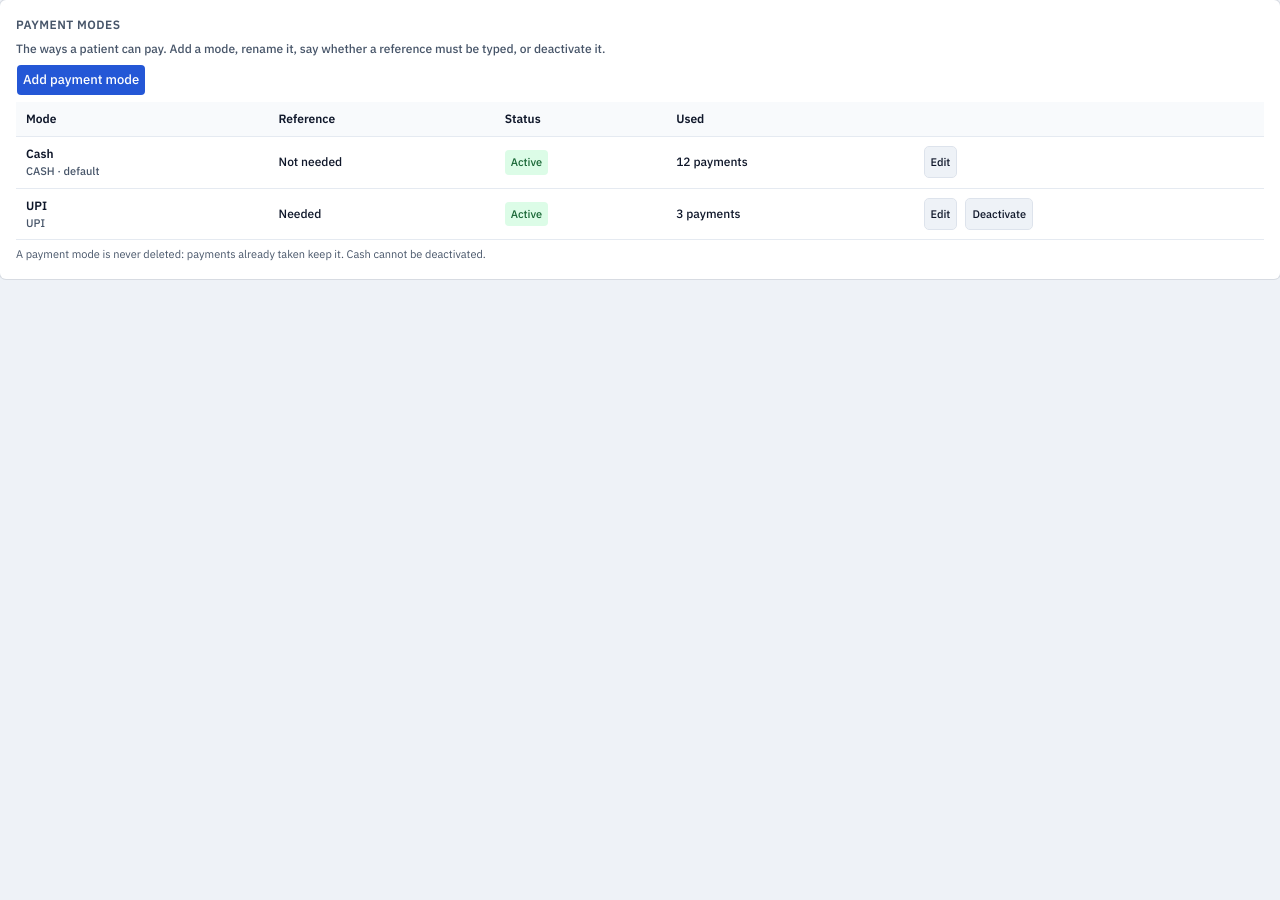
Test: PaymentModesScreen › sends one request for a double click on Save
Step 1. Click the button "Add payment mode" → (81, 80), box [16,64,146,96]
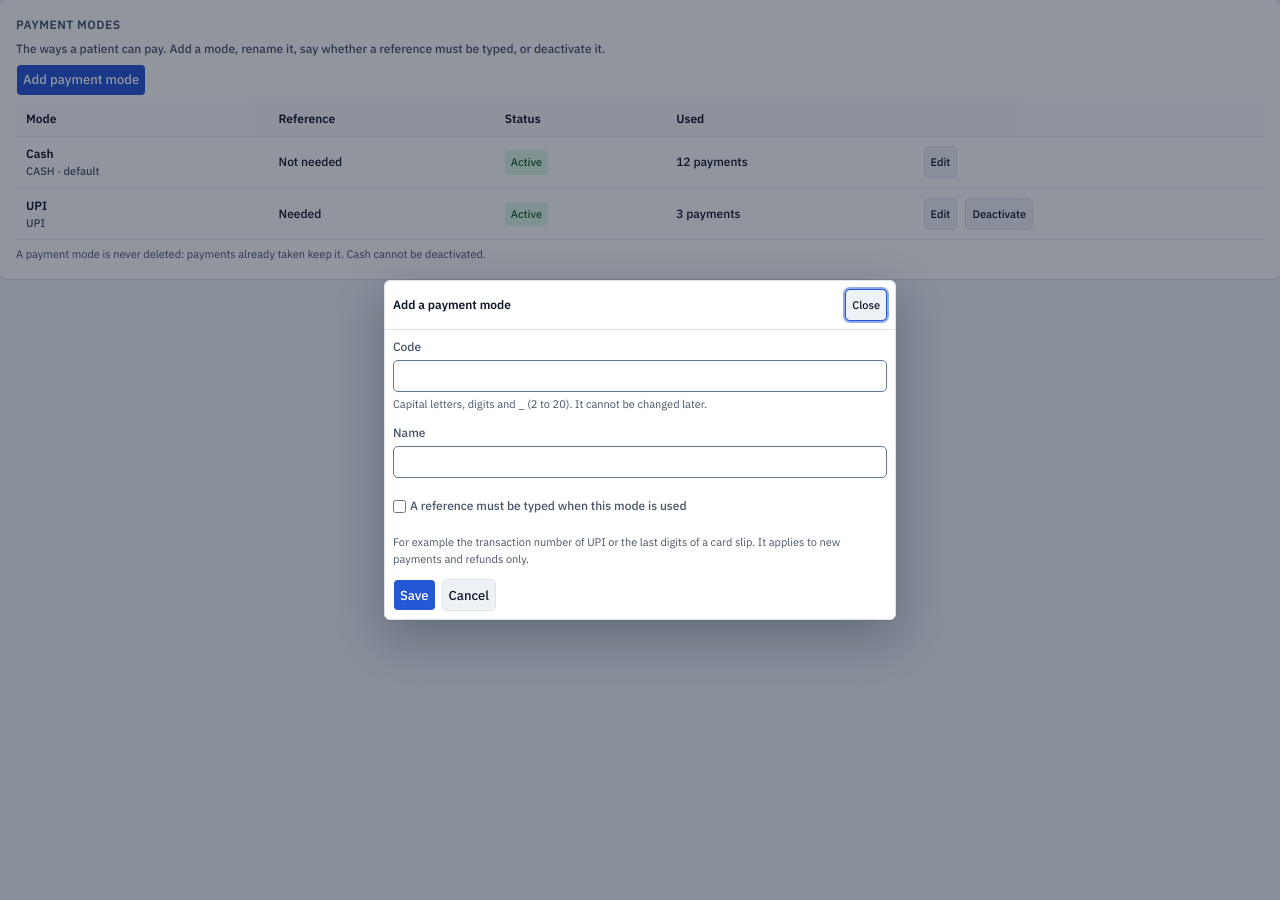
Step 2. Type "WALLET" into the field labelled "Code" → (640, 376), box [393,360,887,392]
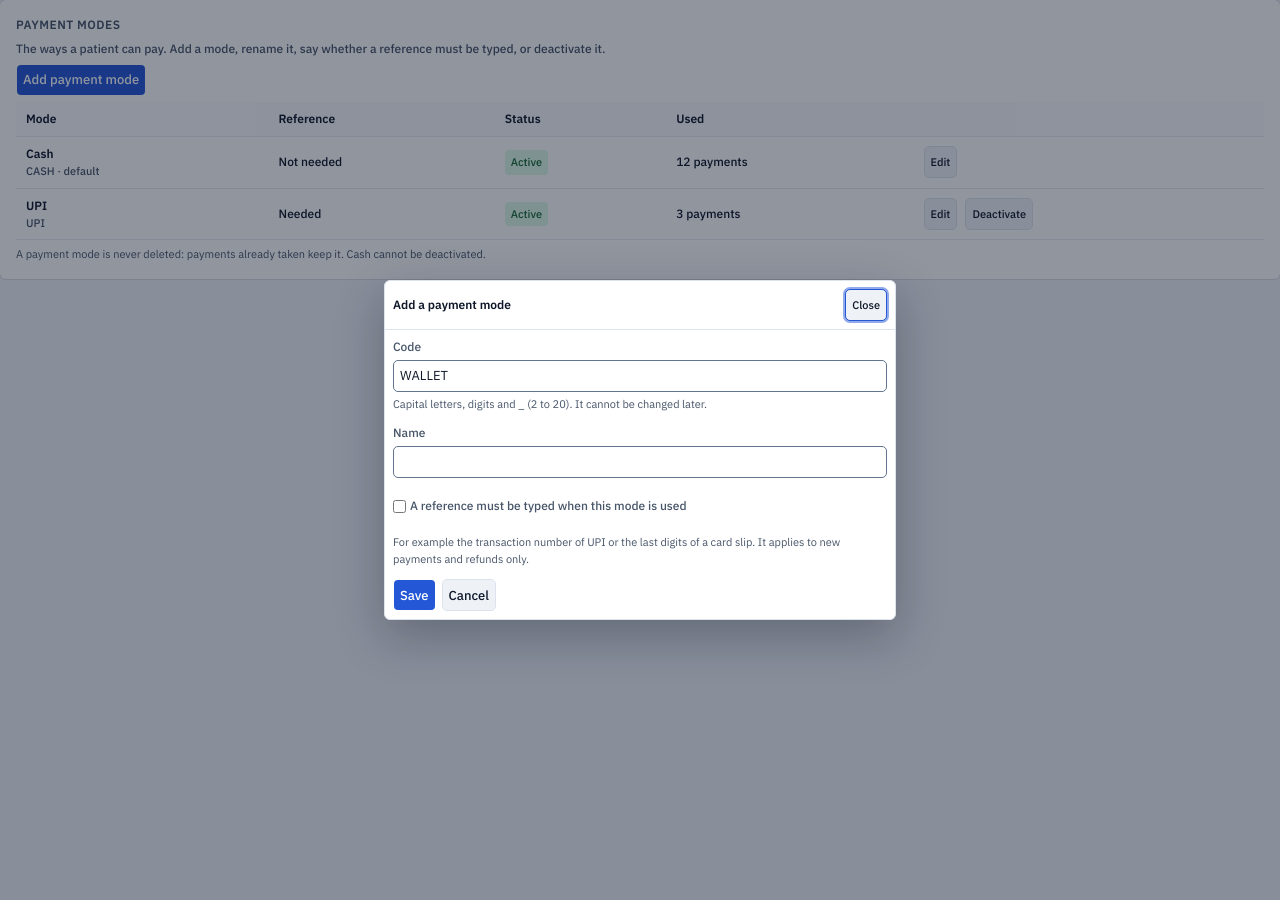
Step 3. Type "Wallet" into the field labelled "Name" → (640, 462), box [393,446,887,478]
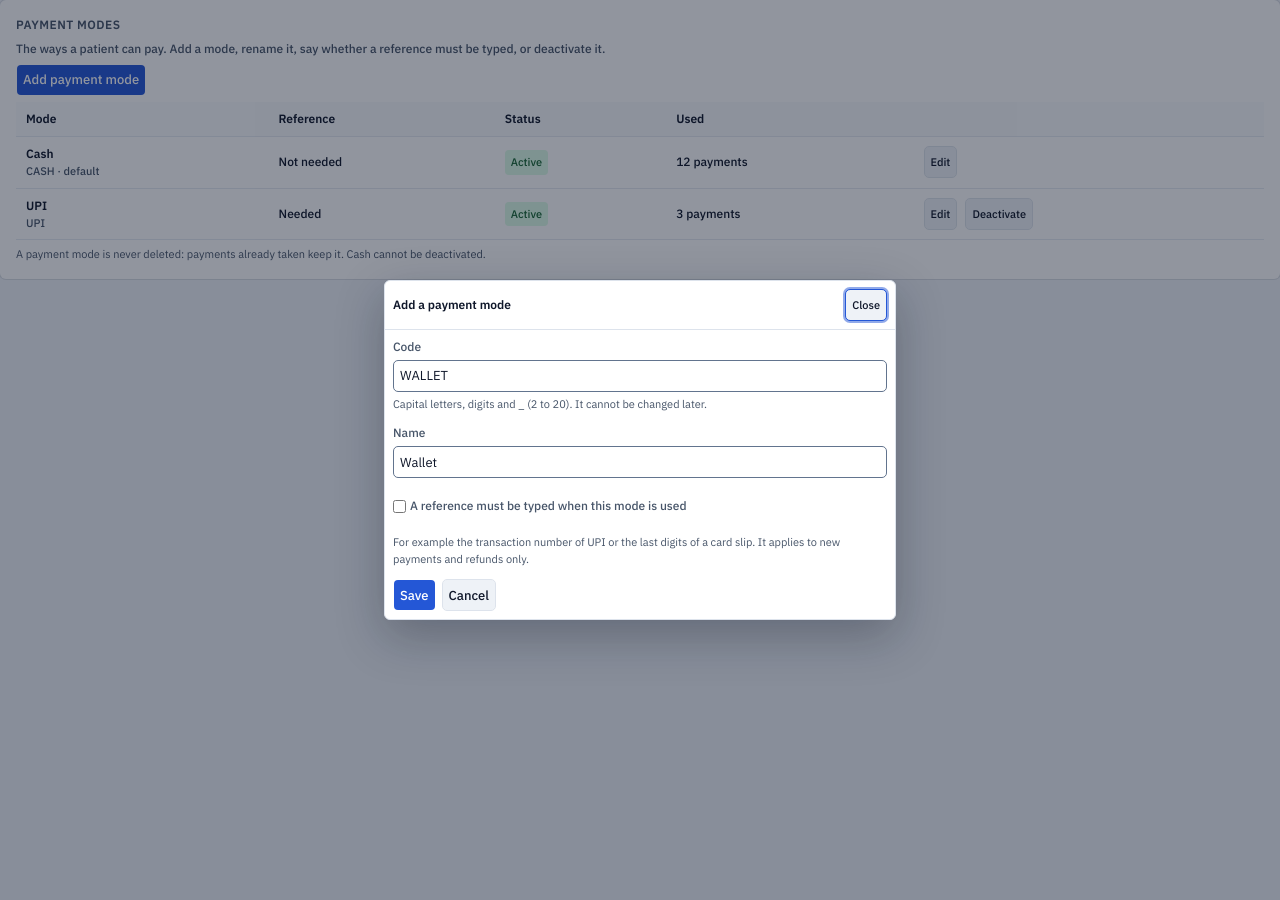
Step 4. Click the button "Save" → (414, 595), box [393,579,436,611]
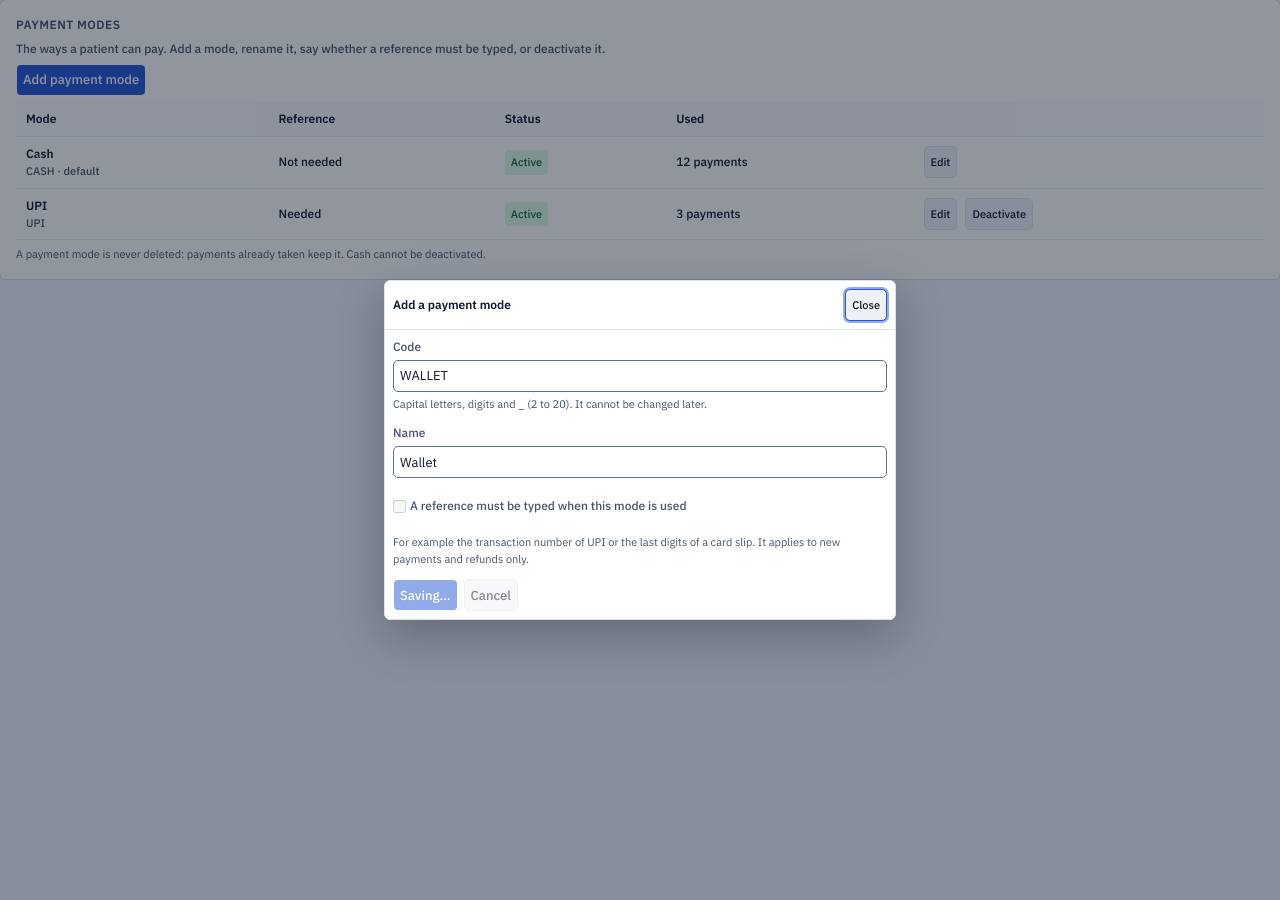
Step 5. Click the button named "Save" → (425, 595), box [393,579,458,611]
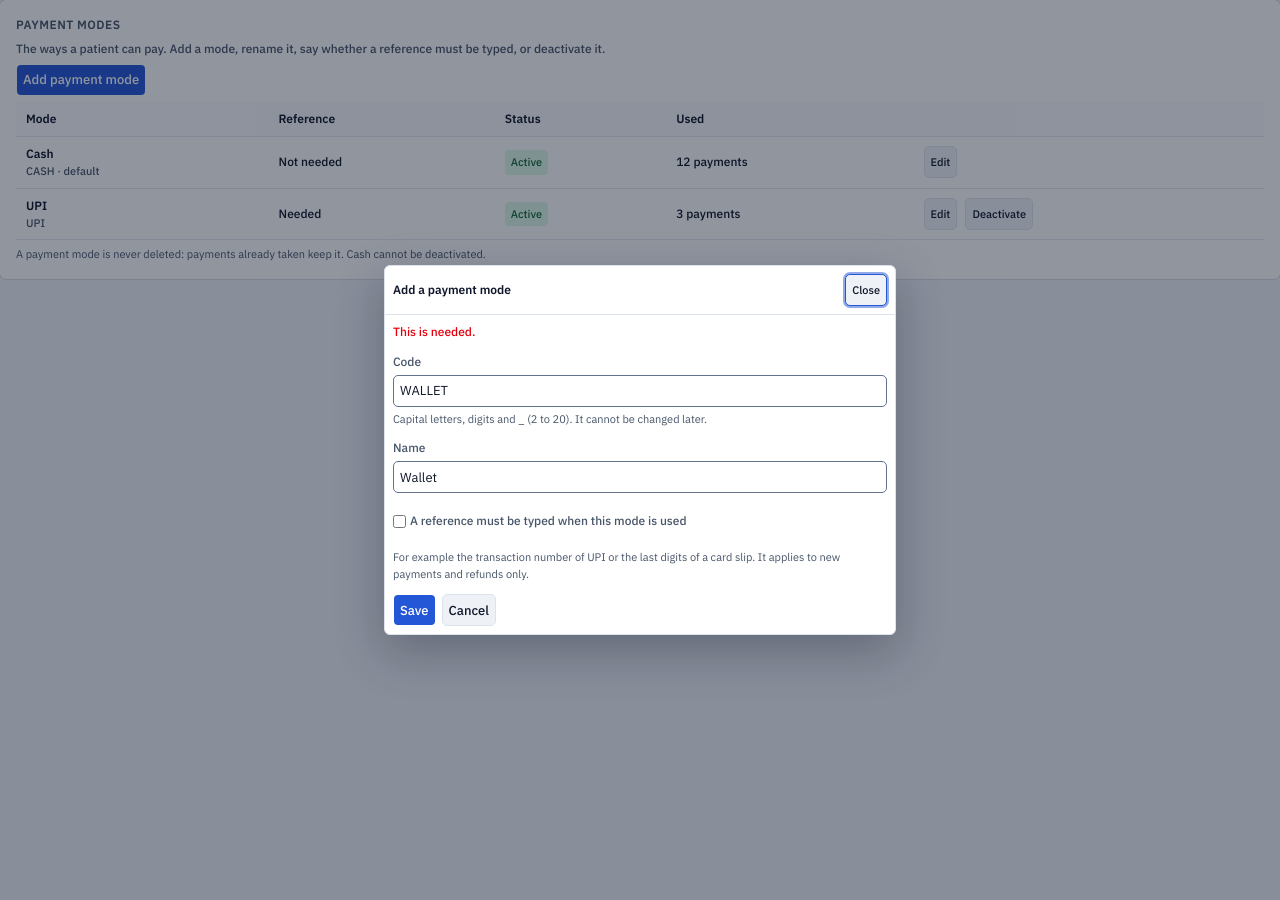
expect the message "This is needed." is shown: met, box [393,324,475,339]
